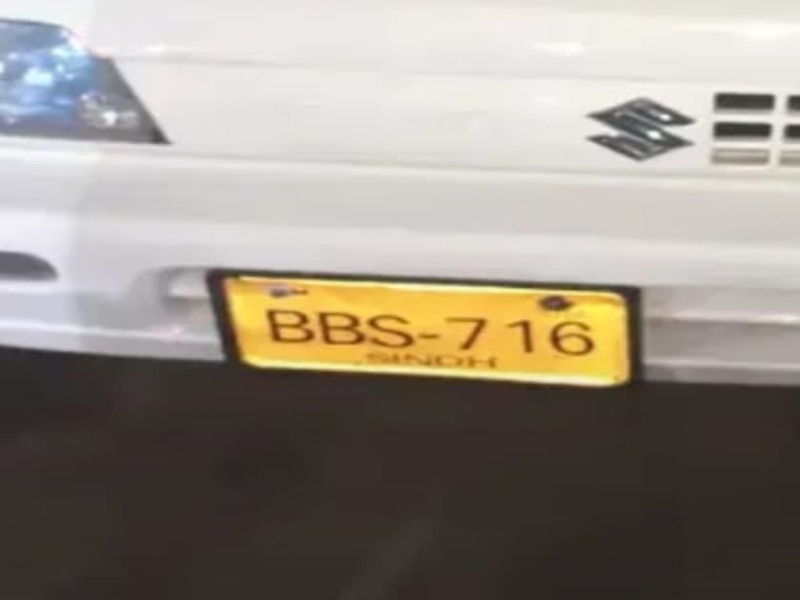License Plate: (208, 263, 638, 395)
